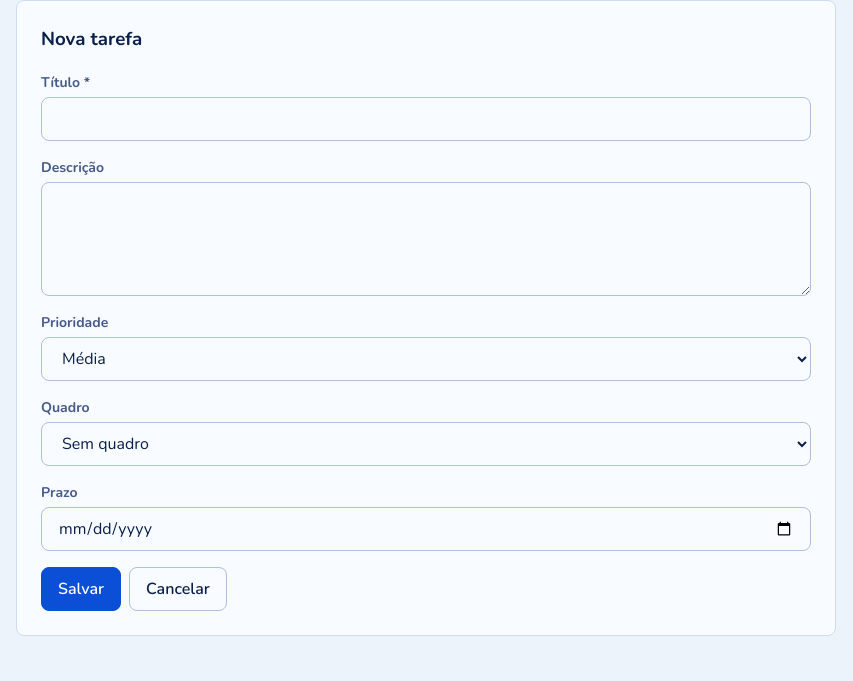
it: TaskForm › recusa submit sem titulo e mostra o erro no campo
Click the button "Salvar": {"x": 81, "y": 589} [41,567,121,611]
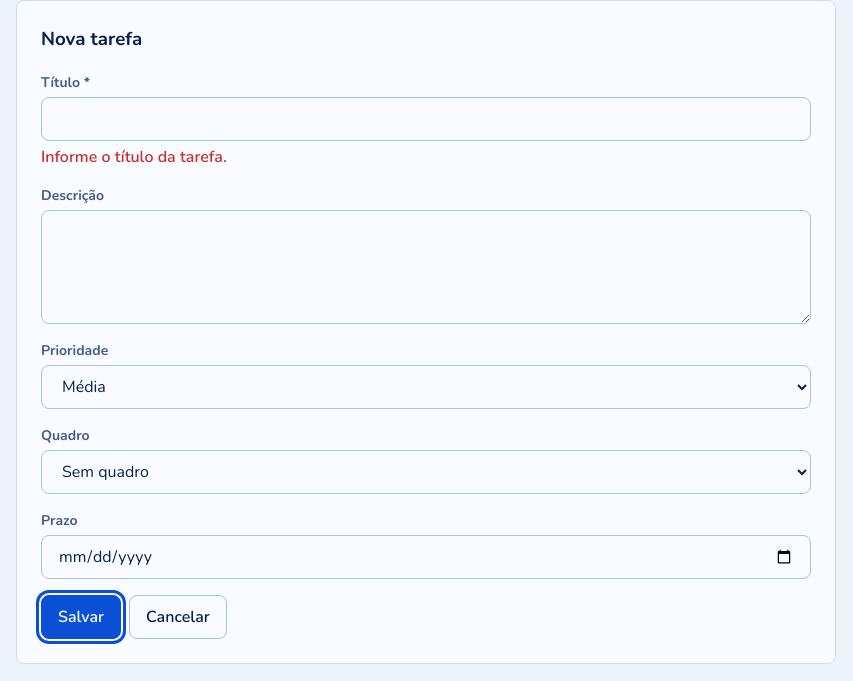
expect the message reads "Informe o título da tarefa.": met, box [41,146,227,168]
